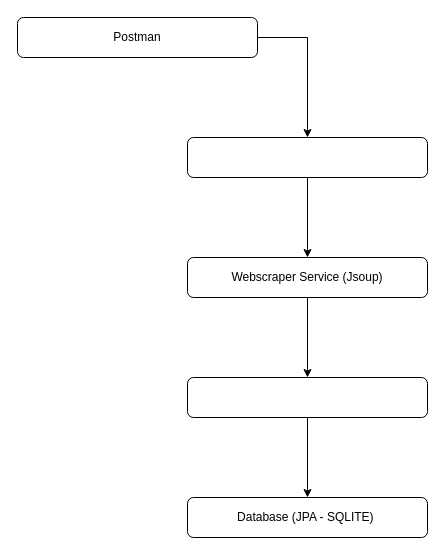
This 445x555 diagram has some shape labels left out. Each missing label, with the centre of its shape:
Morning Panic Service (Data Processing): [307,397]
Records API (REST): [307,157]
